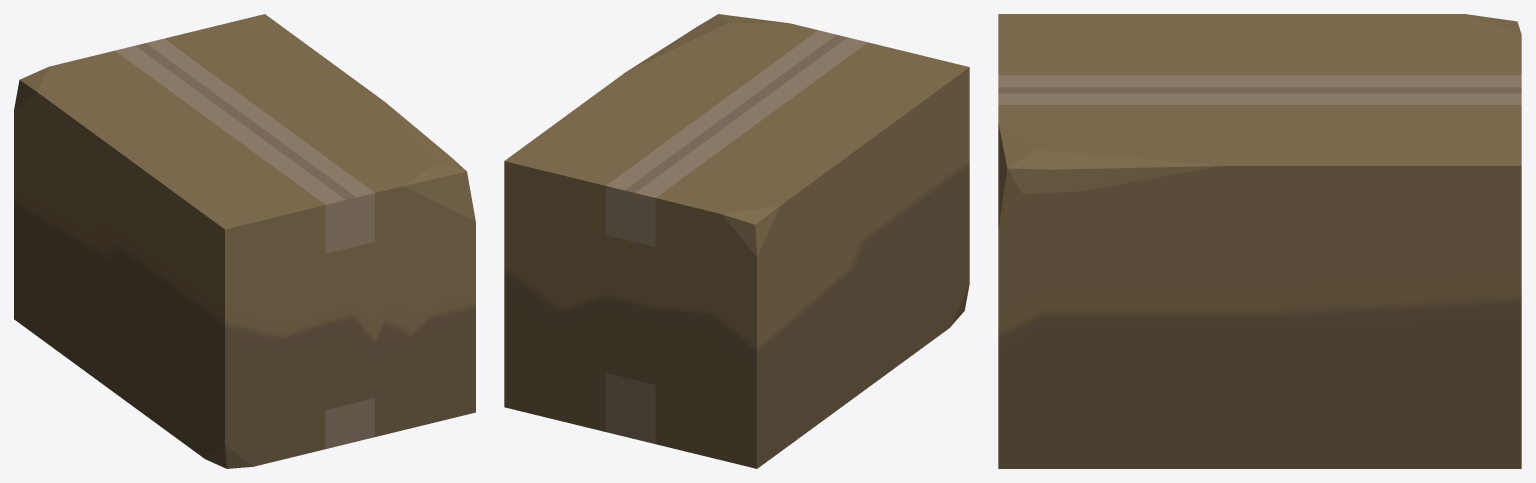
The model's file is SM_Prop_CardboardBox_01_707.obj.
3 views of the same model, side by side, from view 1: azimuth 30°, elevation 25°; view 2: azimuth 150°, elevation 25°; view 3: azimuth 270°, elevation 25° (orthographic). The views are drawn at different scales.
Parts seen in each view (by area): view 1: SM_Prop_CardboardBox_01_0; view 2: SM_Prop_CardboardBox_01_0; view 3: SM_Prop_CardboardBox_01_0.
Part boxes in pixels (x1,y1,x2,y2): SM_Prop_CardboardBox_01_0: [14, 14, 475, 468]; SM_Prop_CardboardBox_01_0: [504, 14, 969, 468]; SM_Prop_CardboardBox_01_0: [998, 14, 1521, 468].
Bounding box in the file's own units: 0.5 × 0.4651 × 0.7282.
Materials: 1 (1 with a texture image).
